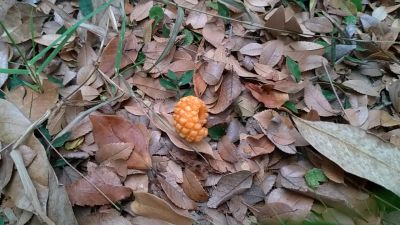eggs: (169, 94, 212, 144)
